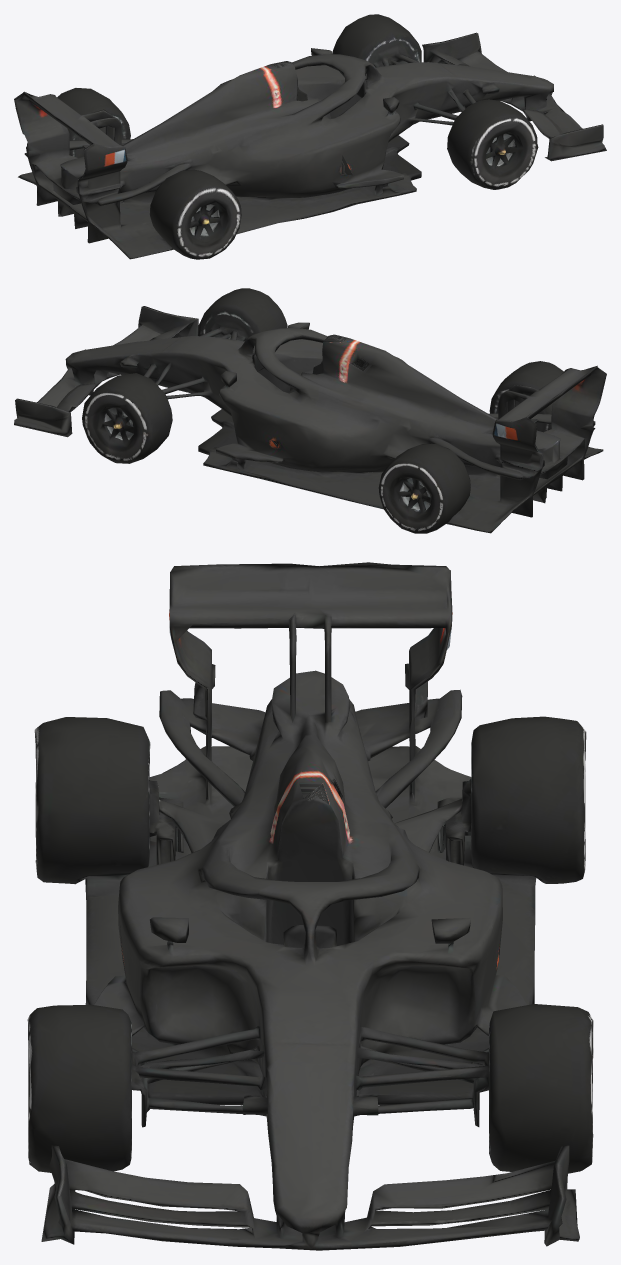
3 views of the same model, one above another, from view 1: azimuth 30°, elevation 25°; view 2: azimuth 150°, elevation 25°; view 3: azimuth 270°, elevation 25° (orthographic). The views are drawn at different scales.
Visible parts, largest first — view 1: tripo_node_5ca595b1-715e-41b4-b611-b0f836d67e66; view 2: tripo_node_5ca595b1-715e-41b4-b611-b0f836d67e66; view 3: tripo_node_5ca595b1-715e-41b4-b611-b0f836d67e66.
Part boxes in pixels (x1=…): tripo_node_5ca595b1-715e-41b4-b611-b0f836d67e66: x1=14, y1=14, x2=606, y2=259; tripo_node_5ca595b1-715e-41b4-b611-b0f836d67e66: x1=14, y1=288, x2=606, y2=533; tripo_node_5ca595b1-715e-41b4-b611-b0f836d67e66: x1=27, y1=562, x2=593, y2=1250.
Bounding box in the file's own units: 1 × 0.2242 × 0.4871.
1 material, 1 textured.
